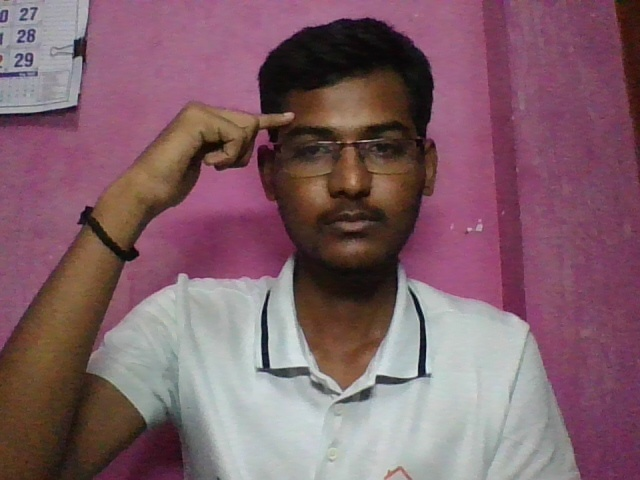Hello: (119, 83, 319, 221)
